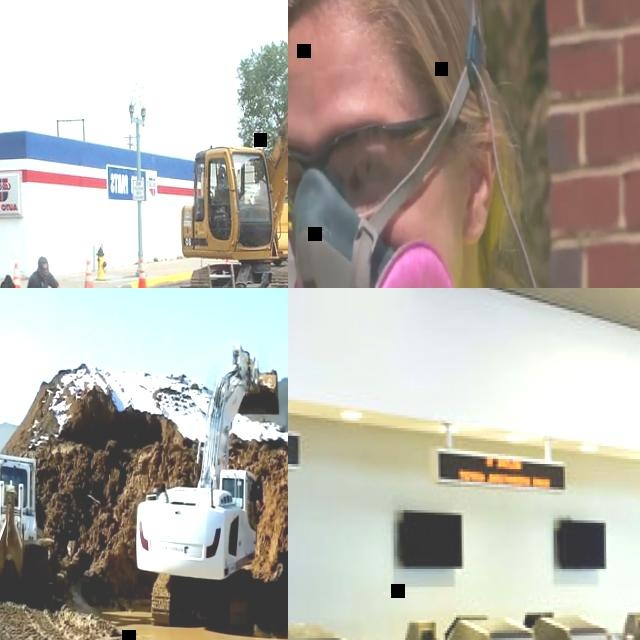Mask: (288, 170, 459, 288)
NO-Hardhat: (288, 0, 478, 114), (37, 255, 48, 269)
NO-Safety Vest: (29, 275, 49, 288)
Person: (288, 0, 640, 288), (22, 252, 63, 288)
Safety Cone: (133, 257, 149, 288), (79, 257, 94, 288), (10, 263, 24, 288)
machinery: (130, 343, 282, 626), (175, 84, 288, 288), (0, 451, 53, 599)
